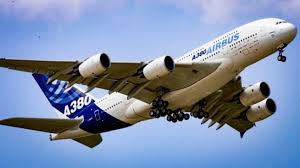maybay_dansu: (2, 8, 293, 153)
